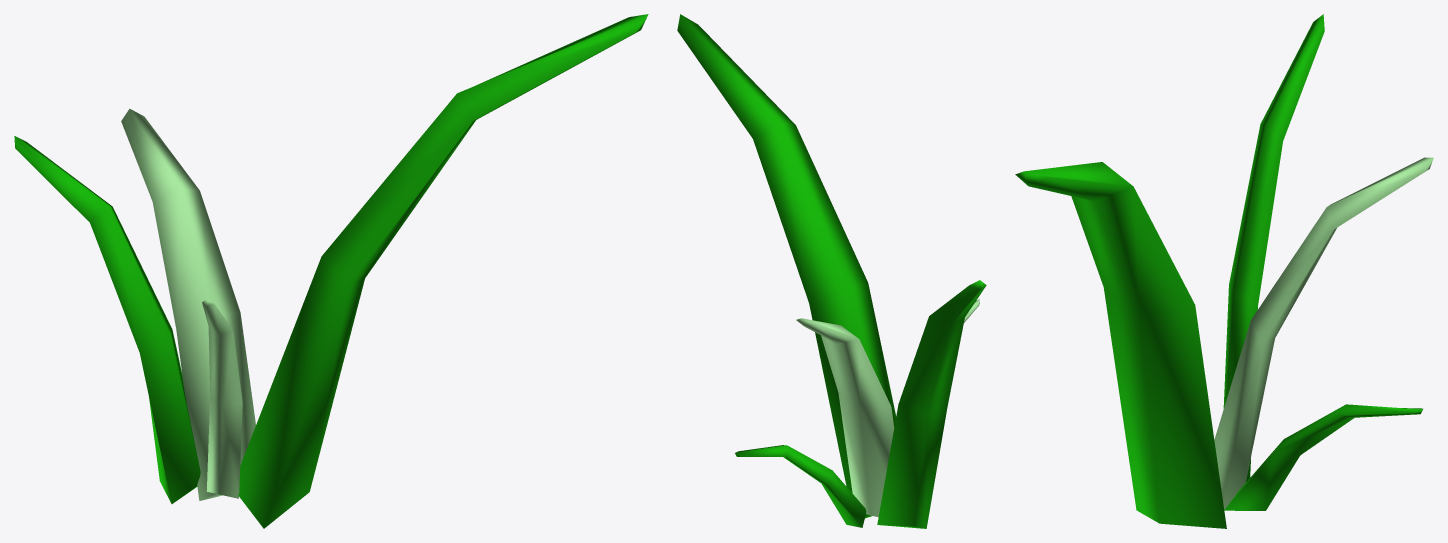
The model's file is GrassBig.fbx.
3 views of the same model, side by side, from view 1: azimuth 30°, elevation 25°; view 2: azimuth 150°, elevation 25°; view 3: azimuth 270°, elevation 25° (orthographic). The views are drawn at different scales.
Parts seen in each view (by area): view 1: Cube.001; view 2: Cube.001; view 3: Cube.001.
Part boxes in pixels (left/top/right/bottom): Cube.001: left=14, top=14, right=648, bottom=528; Cube.001: left=677, top=14, right=986, bottom=528; Cube.001: left=1015, top=14, right=1433, bottom=528.
Size of the model in its own units: 310 by 279 by 204.
